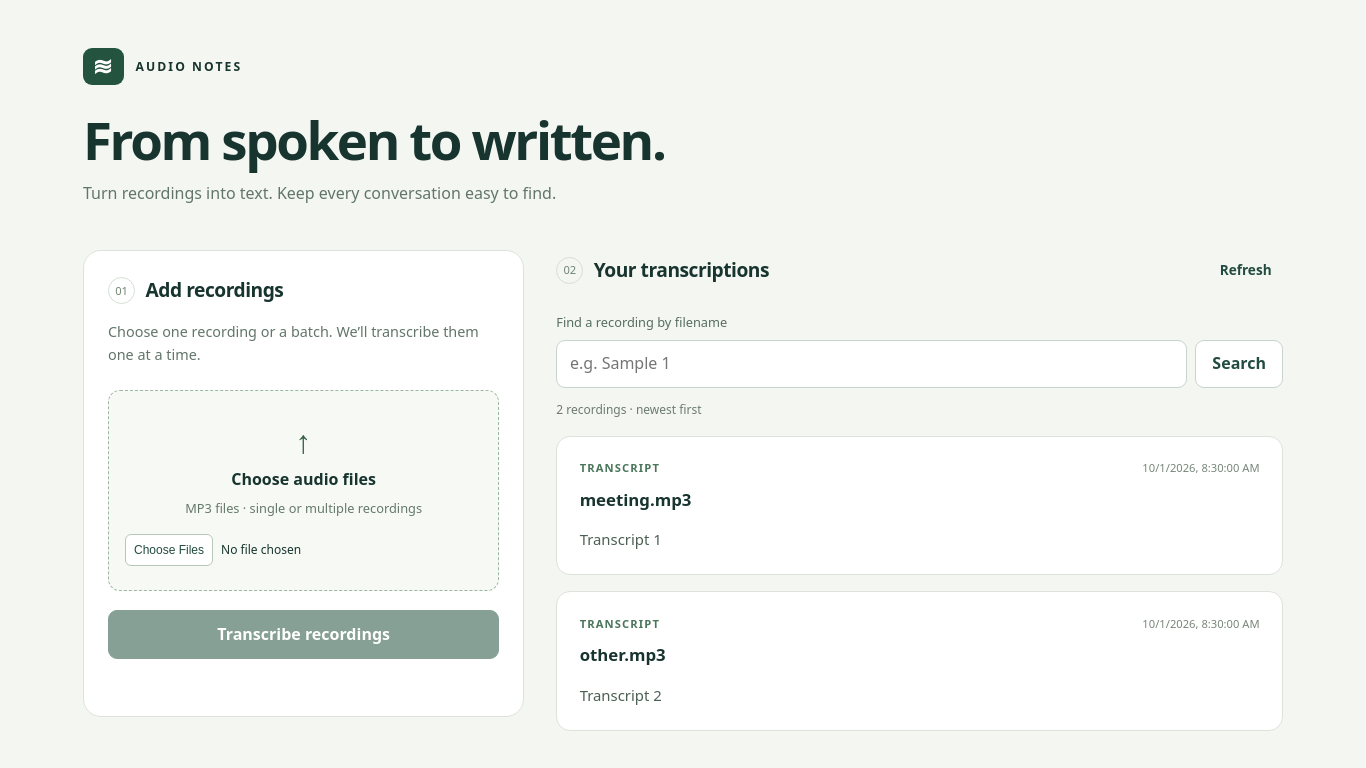
Test: searches filenames and clears back to all records
The width and height of the screenshot is (1366, 768).
Check: the heading "other.mp3" is shown, box [580,643,666,666]
In the search field labelled "Find a recording by filename": (872, 364) [556,340,1187,388], type " meeting "
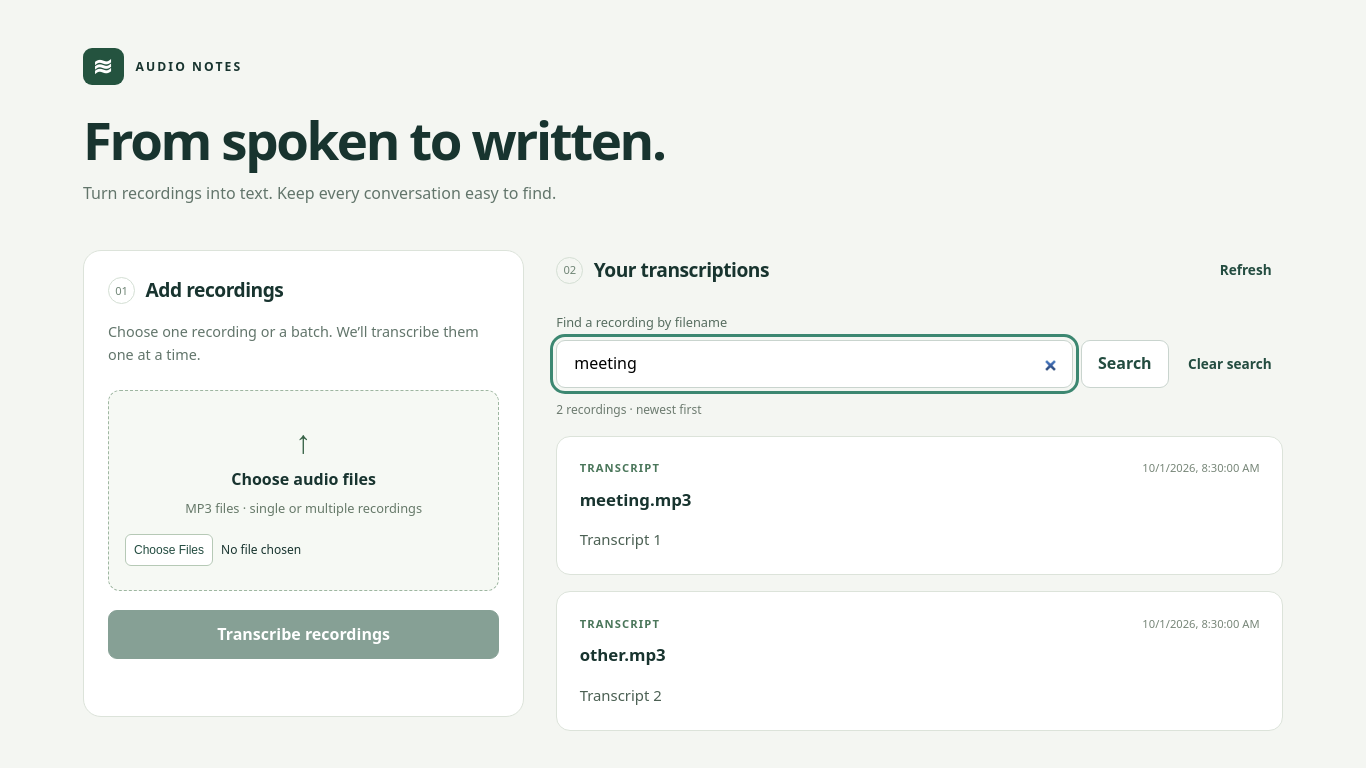
Click the button "Search": click(1125, 364) [1081,340,1169,388]
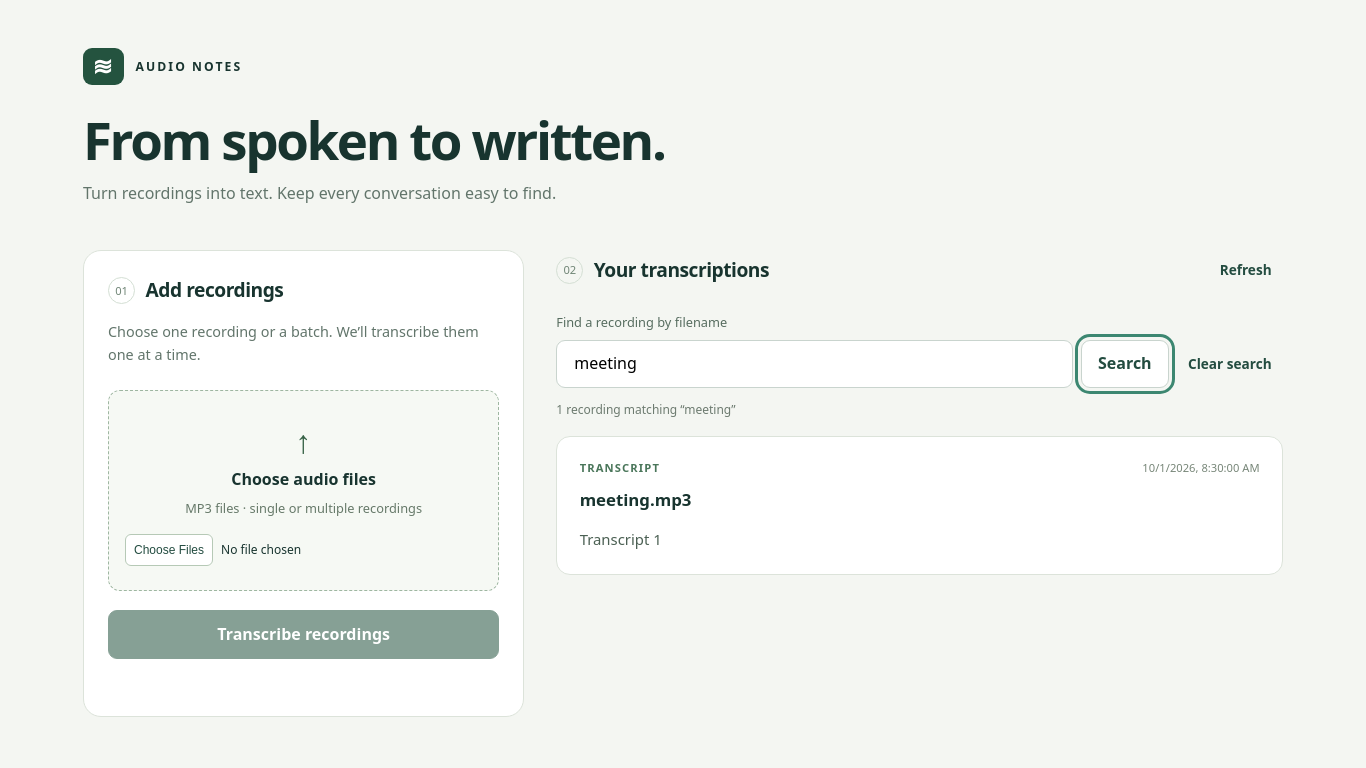
Check: the heading "other.mp3" is gone
Click the button "Clear search": click(1230, 364) [1177,340,1283,388]
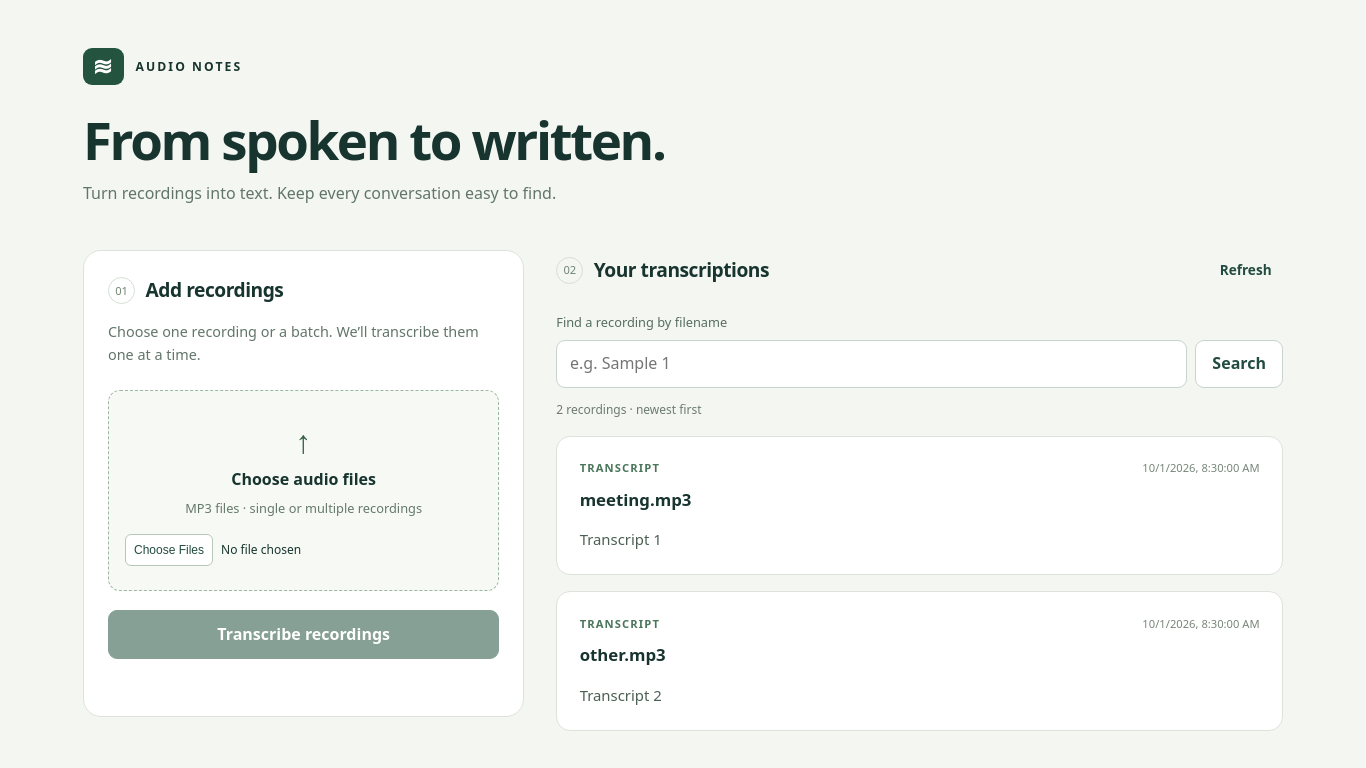
Check: the heading "other.mp3" is shown, box [580,643,666,666]
